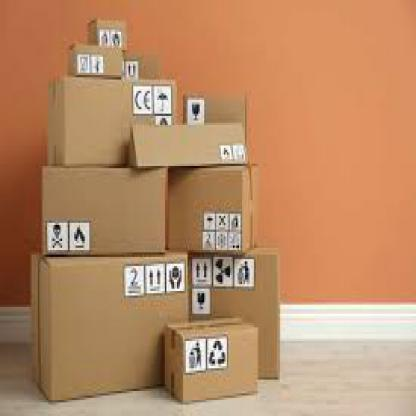paquete: (26, 246, 196, 402), (181, 243, 289, 389), (38, 152, 180, 255), (47, 68, 180, 175), (166, 162, 266, 262), (163, 309, 265, 400), (127, 112, 254, 184), (177, 80, 251, 159), (83, 7, 136, 66), (66, 36, 122, 86), (118, 48, 150, 88)
